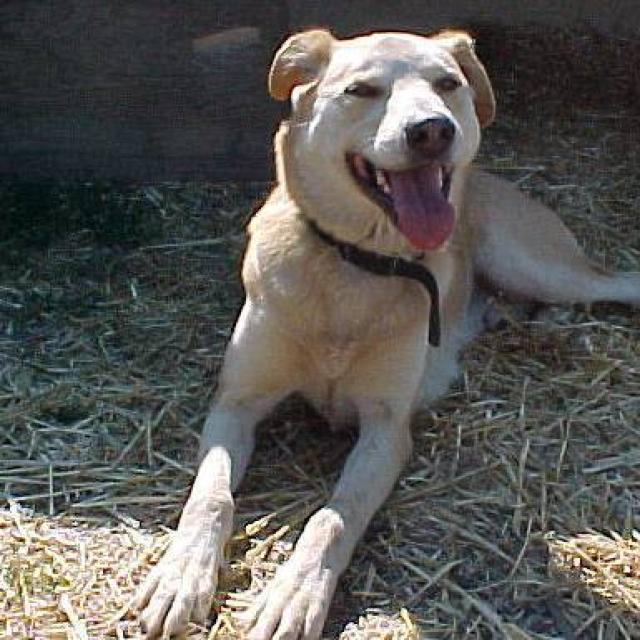dog: (125, 24, 638, 639)
